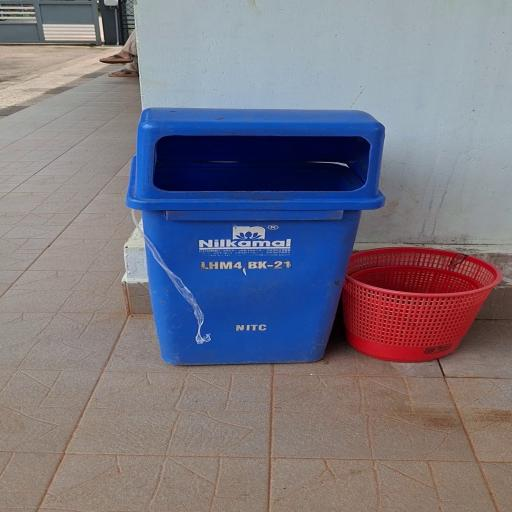Nilkamal-dustbin-detection: (132, 108, 384, 365)
